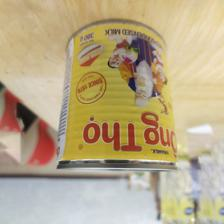Ong_tho: (55, 18, 179, 171)
